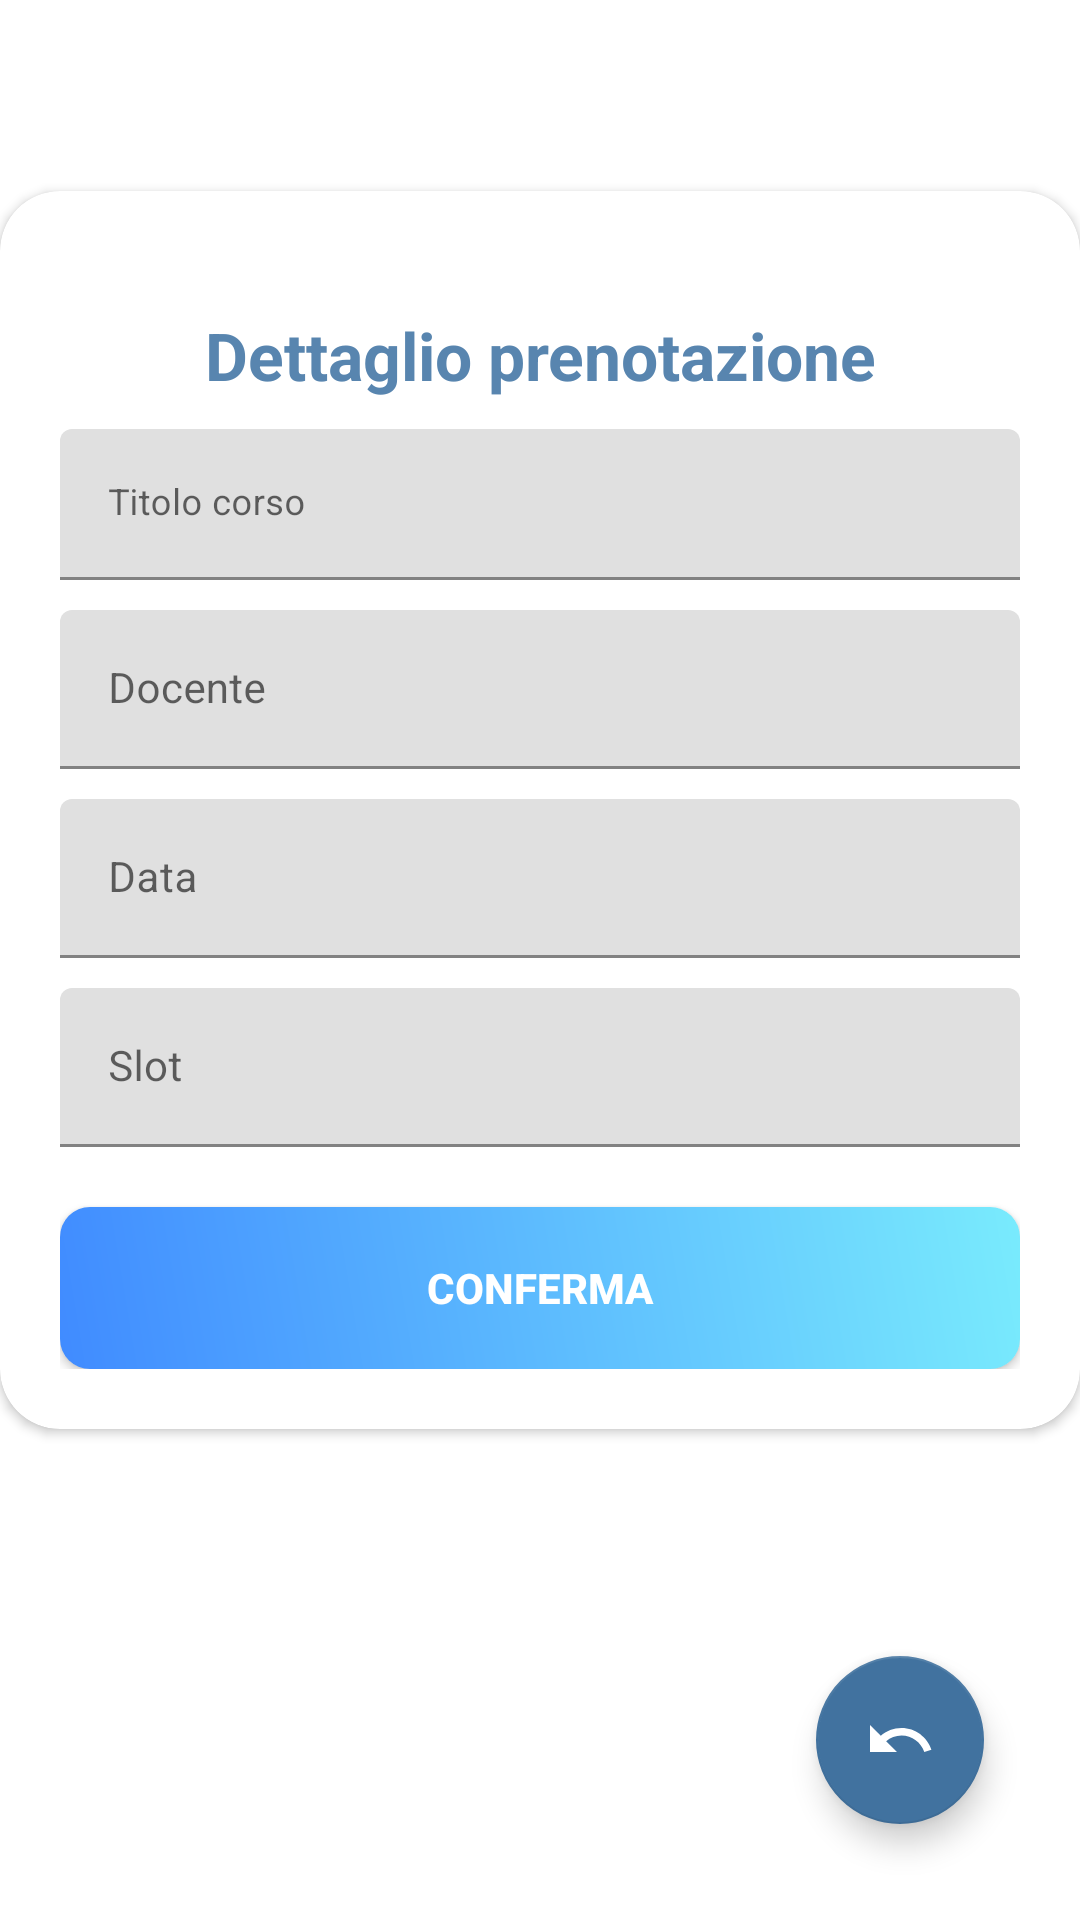

Icons on this 1080x1920 Android screen, each with the point to tap as (x=x, y=y):
back: (x=900, y=1740)
